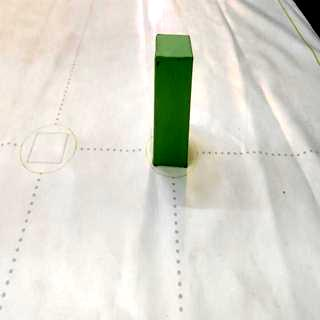greenbox: (151, 31, 195, 168)
